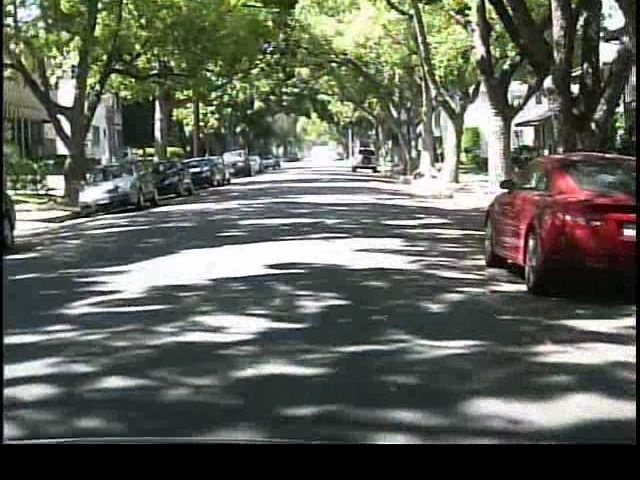person: (98, 144, 121, 196)
